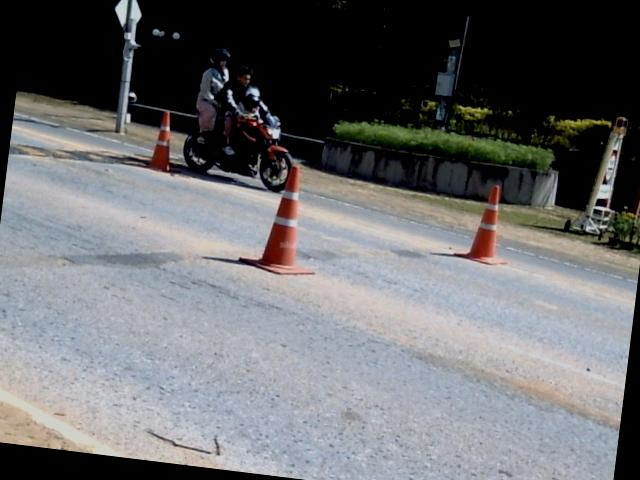helmet: (207, 48, 233, 70), (243, 86, 259, 109)
motor: (182, 113, 291, 191)
no-helmet: (234, 66, 251, 87)
person: (215, 65, 252, 154), (195, 49, 230, 143), (254, 98, 269, 116)
